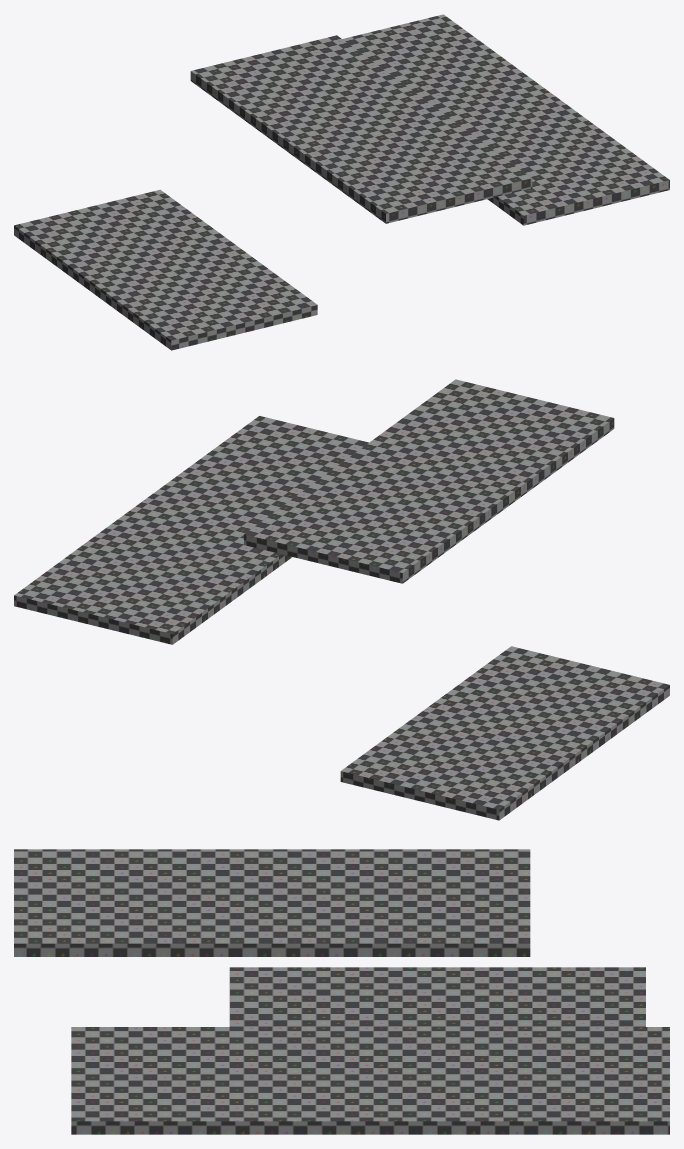
File: 002-website.glb
3 views of the same model, one above another, from view 1: azimuth 30°, elevation 25°; view 2: azimuth 150°, elevation 25°; view 3: azimuth 270°, elevation 25° (orthographic). The views are drawn at different scales.
Visible parts, largest first — view 1: Webpage.001, Webpage.003, Webpage.002; view 2: Webpage.001, Webpage.002, Webpage.003; view 3: Webpage.002, Webpage.001, Webpage.003.
Boxes of the visible parts, x1,y1,x2,y2 form: Webpage.001: (190,35,532,223); Webpage.003: (14,189,317,350); Webpage.002: (342,14,669,225); Webpage.001: (244,379,614,583); Webpage.002: (14,416,368,644); Webpage.003: (340,646,669,820); Webpage.002: (71,1027,669,1134); Webpage.001: (14,849,530,956); Webpage.003: (229,967,645,1026).
Size of the model in its own units: 3.78 by 1.35 by 3.71.
Materials: 1 (1 with a texture image).
